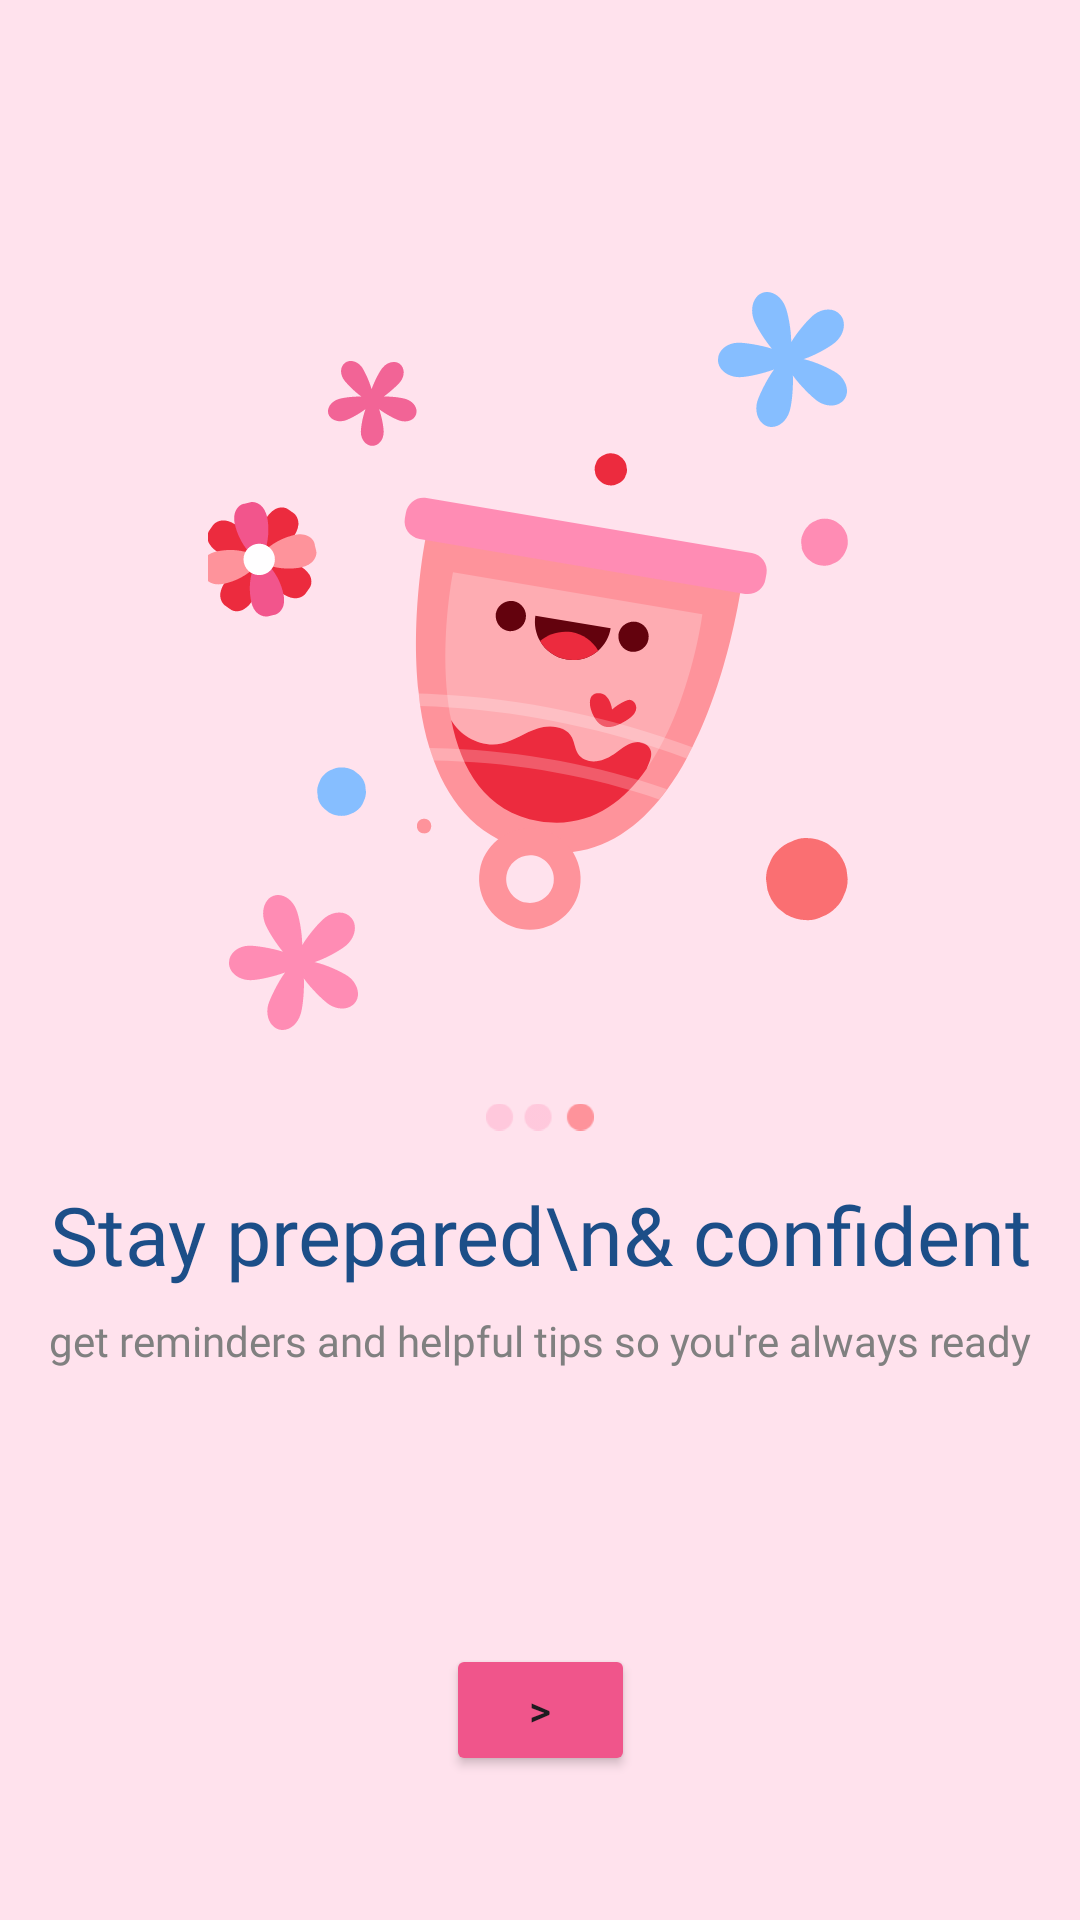

Named icons in this screenshot (1080w x 1920h) and their bounding boxes, (x1, y1, x2, y2):
dot: (486, 1104, 594, 1131)
